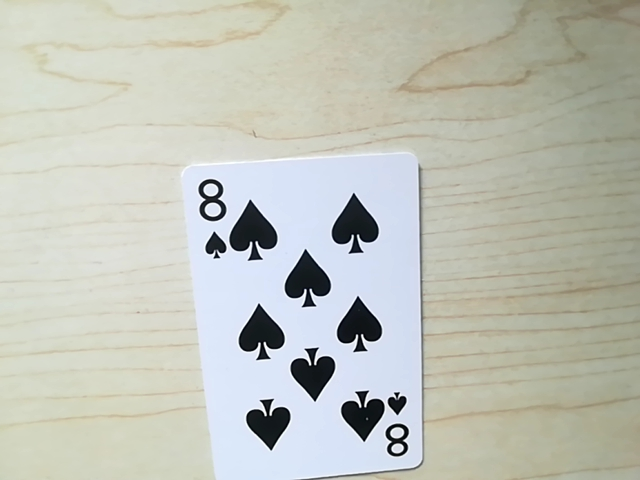ht 8: (190, 166, 233, 258), (370, 400, 416, 464)
